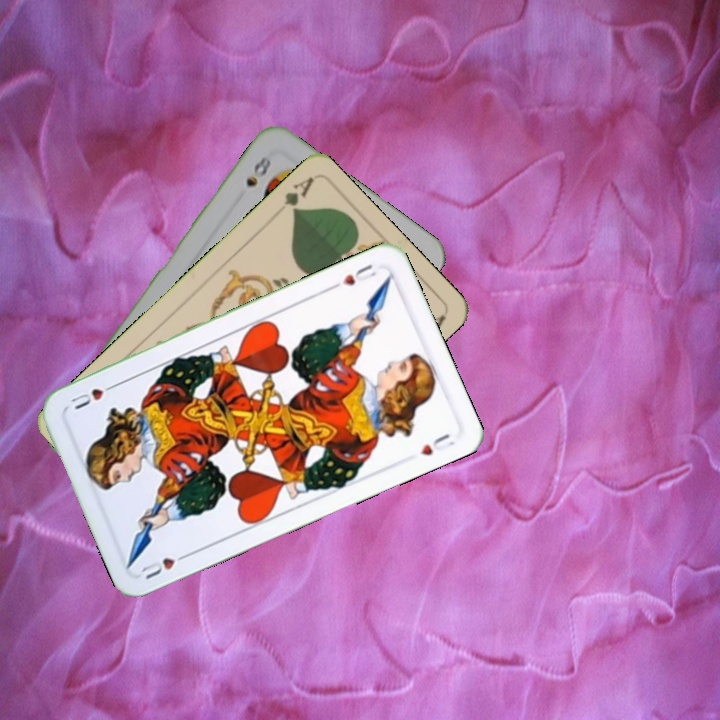GA: (279, 173, 316, 218)
HU: (137, 549, 193, 582), (327, 260, 379, 292)
S8: (242, 152, 274, 190)
